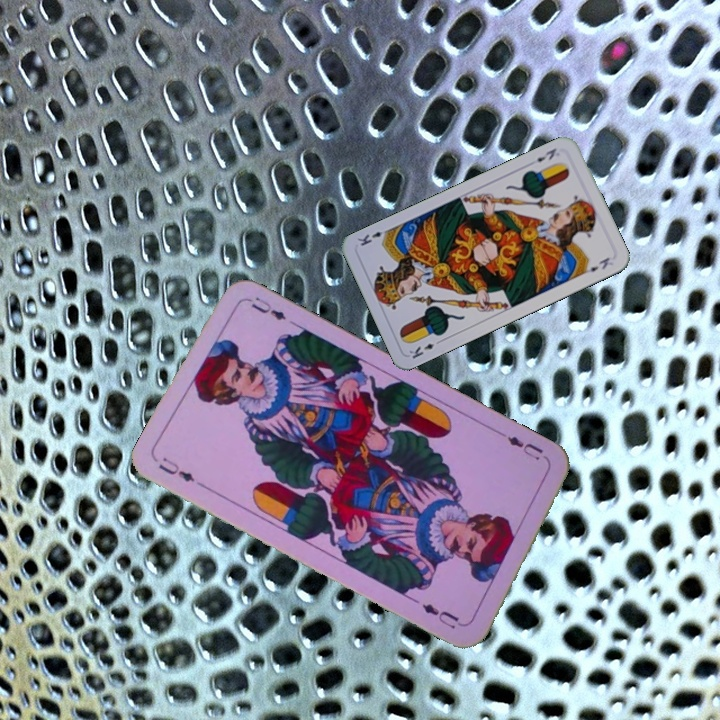EK: (405, 335, 445, 361), (532, 144, 559, 164)
EU: (154, 453, 198, 485), (503, 431, 546, 463)
